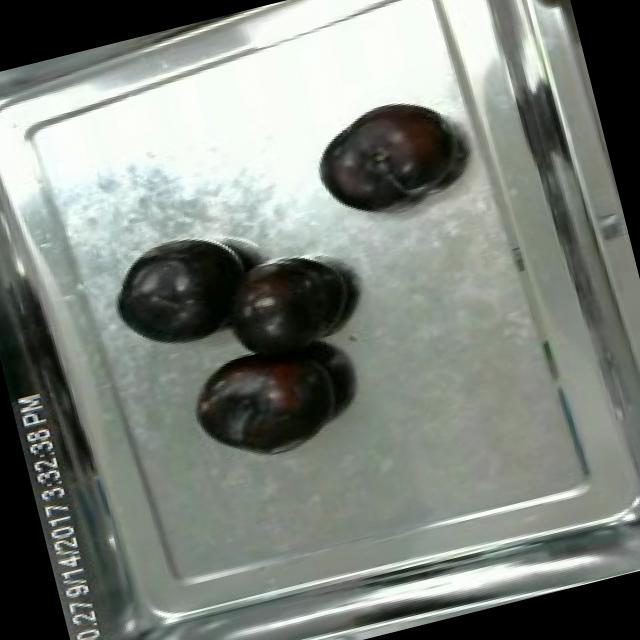Fruit: (179, 330, 356, 472), (300, 84, 470, 228), (97, 222, 266, 364), (219, 242, 369, 374), (498, 0, 571, 18)
